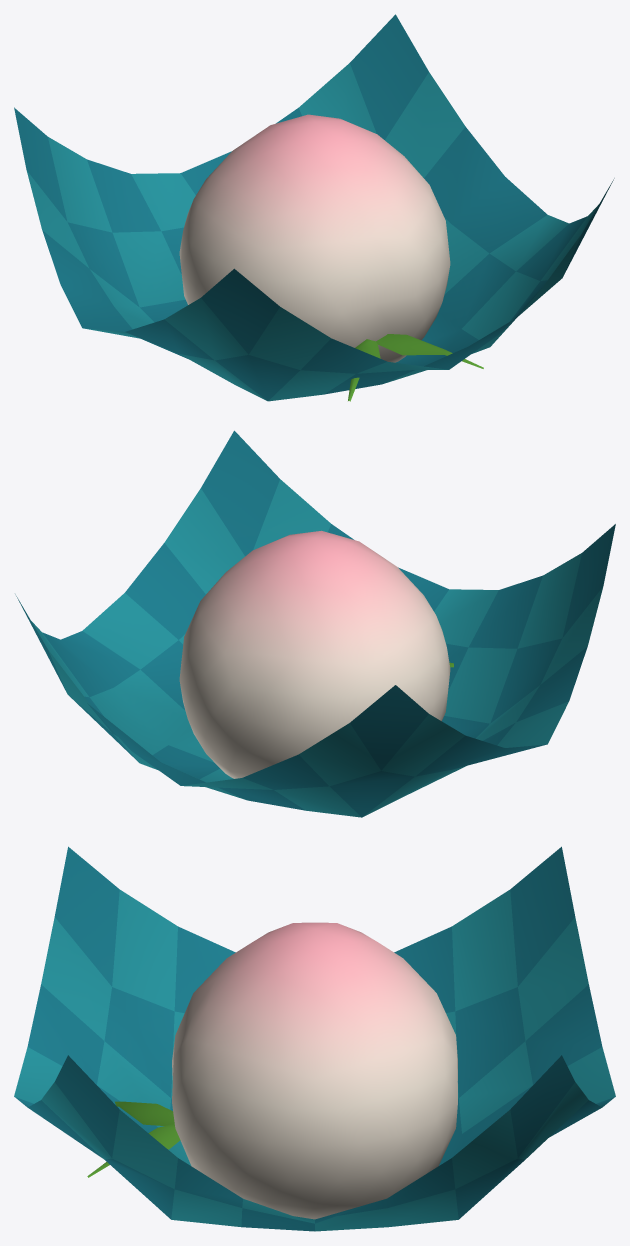
The model's file is peach-bun.glb.
3 renders of one model, top to bottom at view 1: azimuth 30°, elevation 25°; view 2: azimuth 150°, elevation 25°; view 3: azimuth 270°, elevation 25°, orthographic. The views are drawn at different scales.
Parts seen in each view (by area): view 1: Peach bun Fabric teal, Peach bun Bun, Peach bun Leaves; view 2: Peach bun Fabric teal, Peach bun Bun; view 3: Peach bun Fabric teal, Peach bun Bun, Peach bun Leaves.
Part boxes in pixels (left/top/right/bottom): Peach bun Fabric teal: left=14, top=14, right=614, bottom=401; Peach bun Bun: left=179, top=114, right=450, bottom=362; Peach bun Leaves: left=348, top=334, right=483, bottom=401; Peach bun Fabric teal: left=15, top=430, right=615, bottom=817; Peach bun Bun: left=179, top=530, right=450, bottom=778; Peach bun Fabric teal: left=14, top=846, right=615, bottom=1231; Peach bun Bun: left=172, top=922, right=457, bottom=1219; Peach bun Leaves: left=87, top=1101, right=180, bottom=1177.
Size of the model in its own units: 0.34 by 0.1726 by 0.34.
